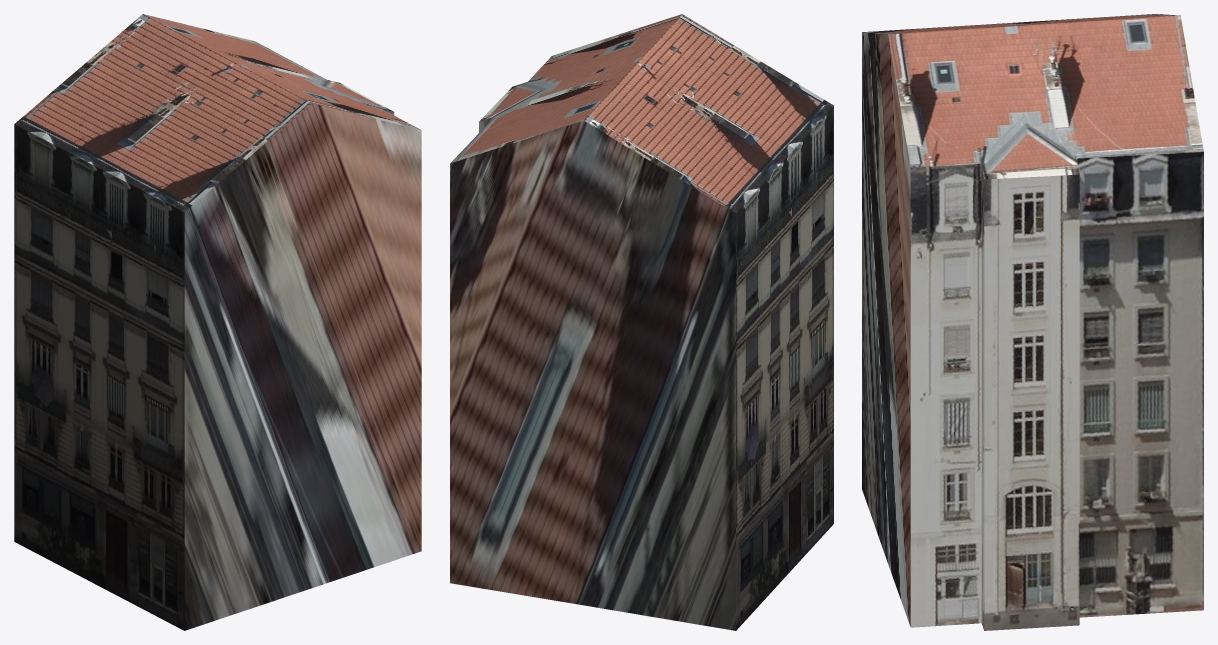
3 views of the same model, side by side, from view 1: azimuth 30°, elevation 25°; view 2: azimuth 150°, elevation 25°; view 3: azimuth 270°, elevation 25° (orthographic). The views are drawn at different scales.
Parts seen in each view (by area): view 1: Z_UP; view 2: Z_UP; view 3: Z_UP.
Boxes of the visible parts, x1,y1,x2,y2 form: Z_UP: [14, 14, 421, 630]; Z_UP: [450, 14, 833, 630]; Z_UP: [862, 14, 1203, 630].
Size of the model in its own units: 17.42 by 26.72 by 15.64.
Materials: 2 (1 with a texture image).
